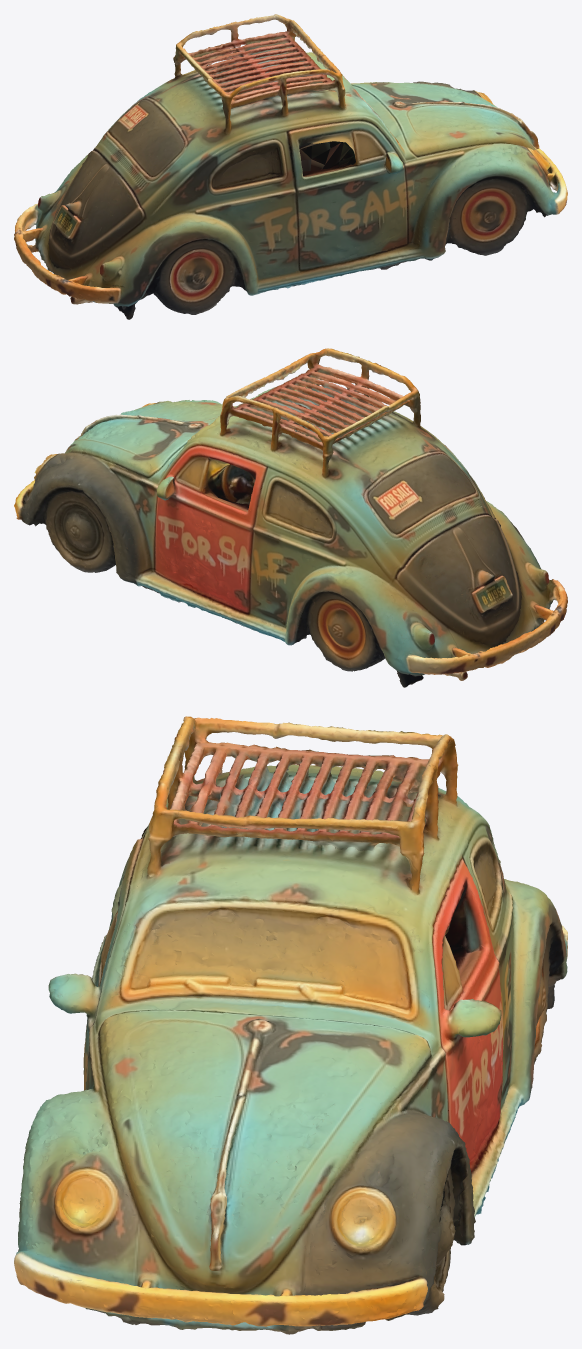
The model's file is beetle_toy_car.glb.
3 views of the same model, one above another, from view 1: azimuth 30°, elevation 25°; view 2: azimuth 150°, elevation 25°; view 3: azimuth 270°, elevation 25° (orthographic). The views are drawn at different scales.
Parts seen in each view (by area): view 1: Object_4, Object_5, Object_6; view 2: Object_5, Object_4, Object_6; view 3: Object_5, Object_4, Object_6.
Part boxes in pixels (<box>): Object_4: <box>15,15,539,319</box>; Object_5: <box>14,14,567,313</box>; Object_6: <box>15,17,566,289</box>; Object_5: <box>16,356,533,687</box>; Object_4: <box>71,348,567,680</box>; Object_6: <box>14,348,553,680</box>; Object_5: <box>14,722,567,1334</box>; Object_4: <box>50,716,564,1268</box>; Object_6: <box>14,718,504,1334</box>.
Bounding box in the file's own units: 0.1912 × 0.0803 × 0.099.
Materials: 1 (1 with a texture image).
